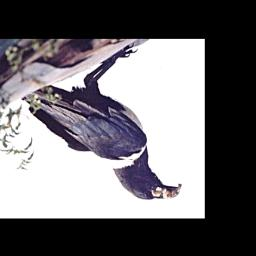Crow: (15, 45, 183, 202)
